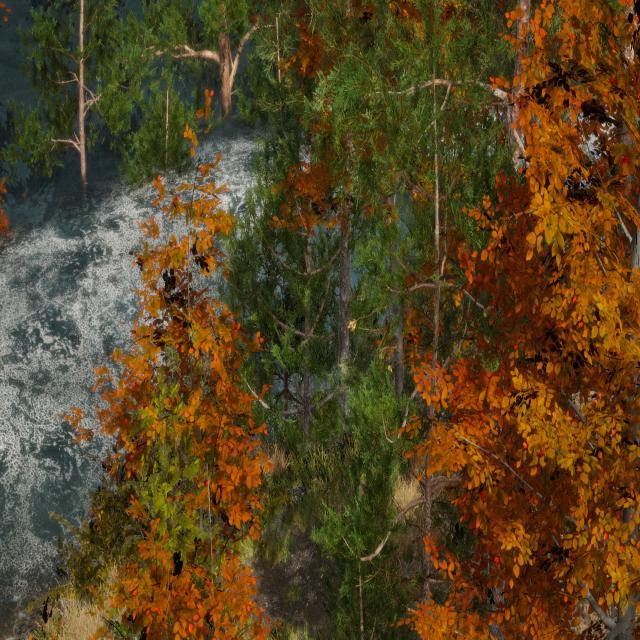Human: (274, 226, 308, 370)
